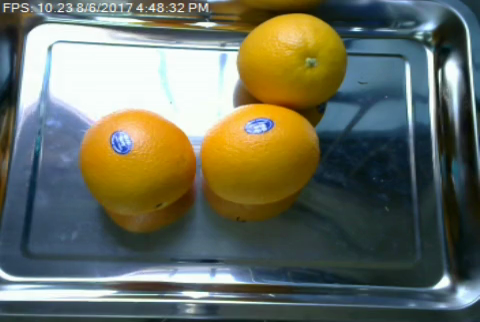Orange: (79, 108, 196, 215), (199, 103, 321, 205), (235, 12, 347, 106)
